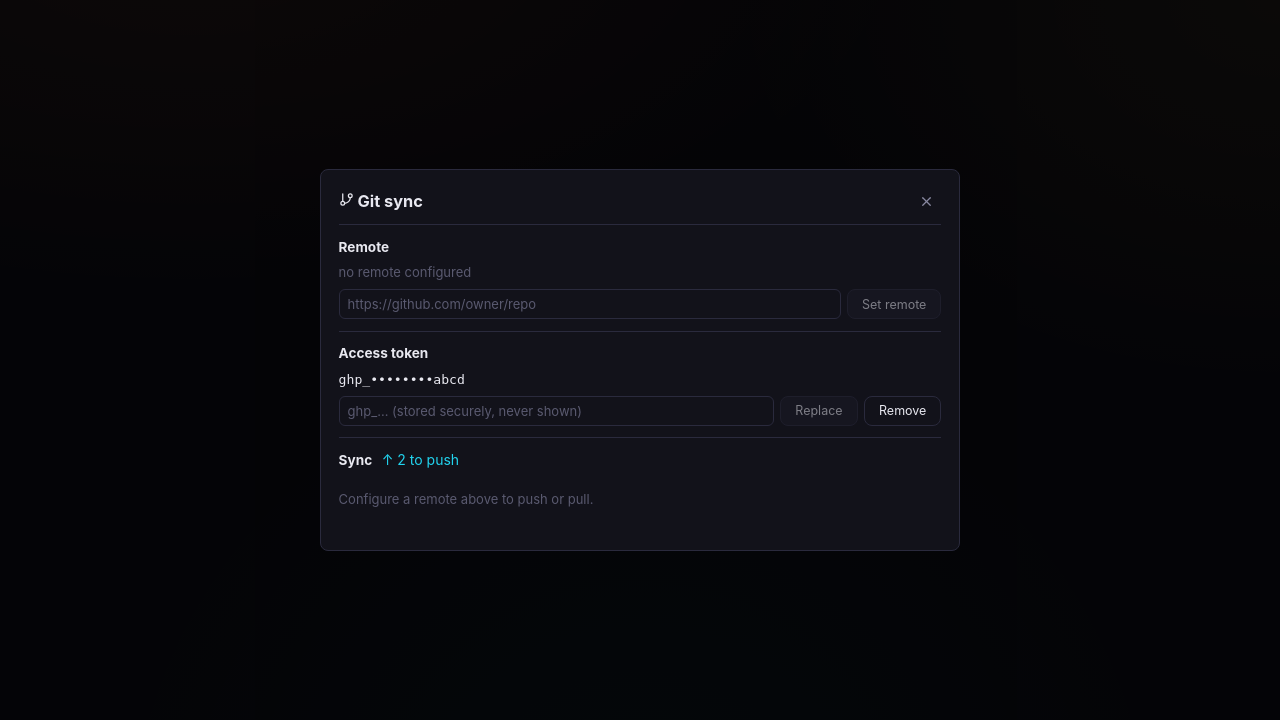
it: GitSyncPanel — configure remote › an invalid URL surfaces an inline field error, not a generic toast
In the field with test id "remote-url-input": coordinates (590, 304) [339,290,841,320], type "http://evil"
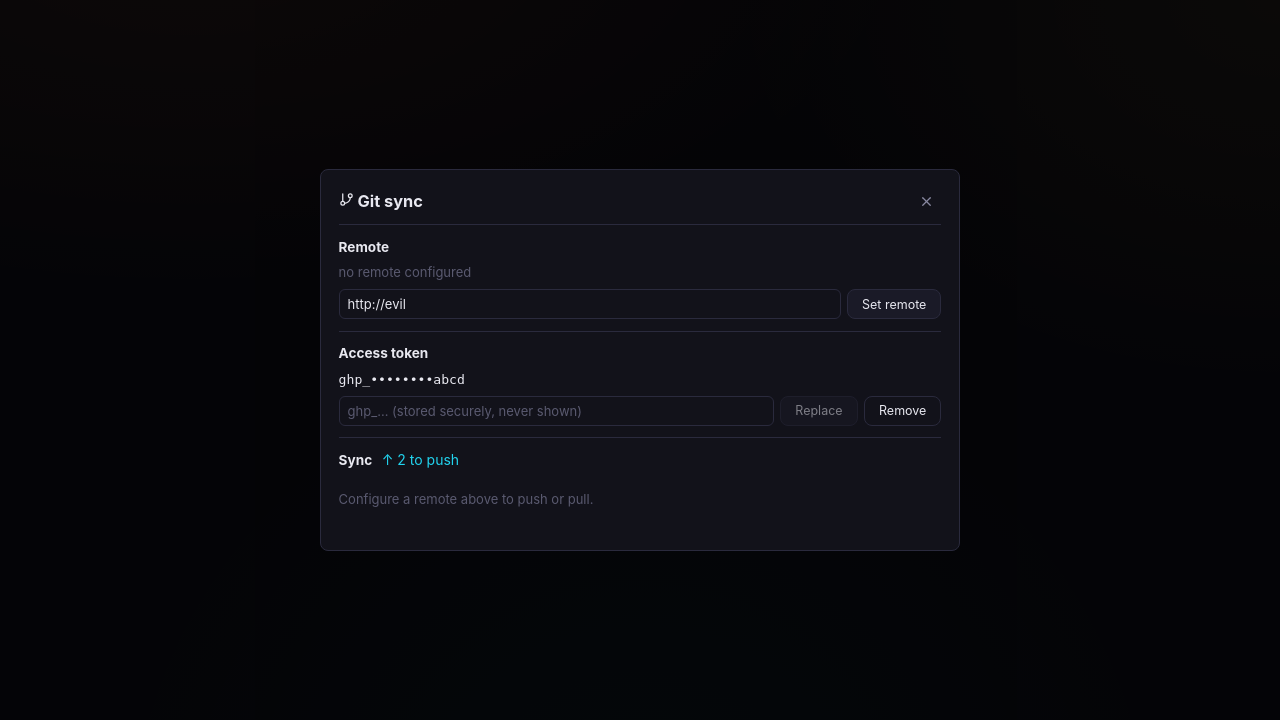
Click the button "Set remote": coordinates (894, 304) [847,290,941,320]
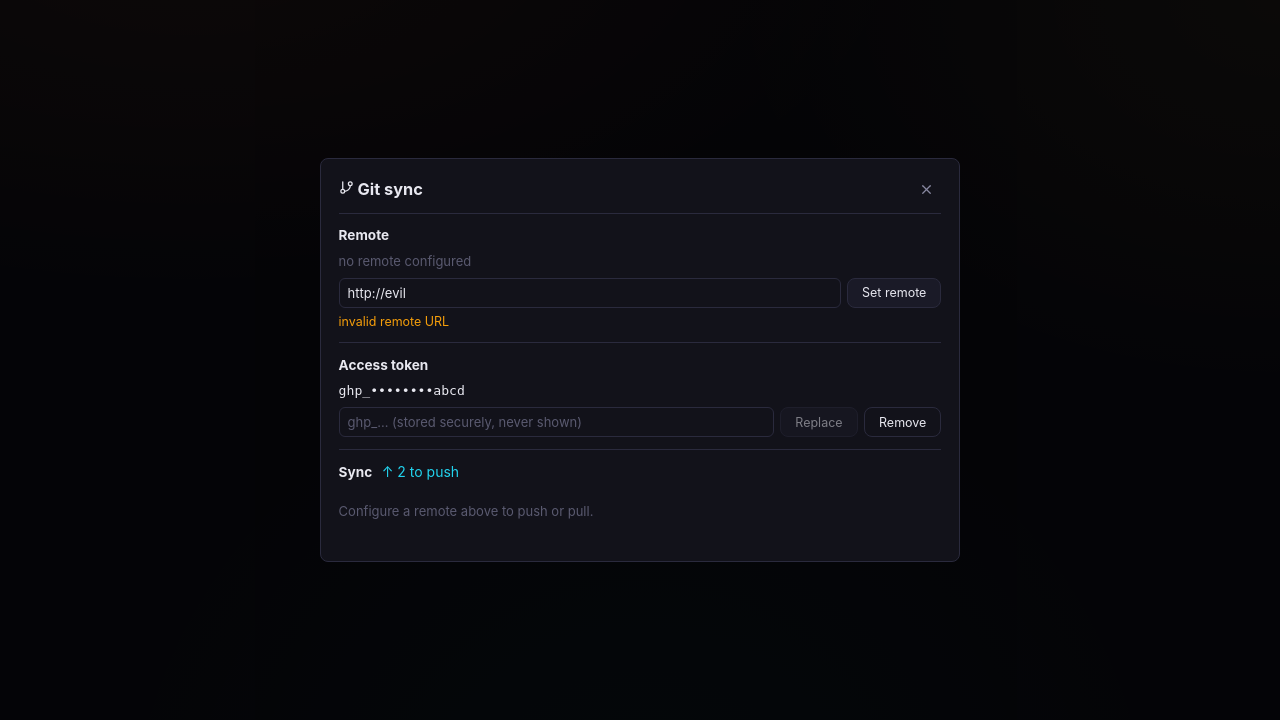
Result: the message with test id "url-error" reads "invalid remote URL" at [339,314,449,328]
